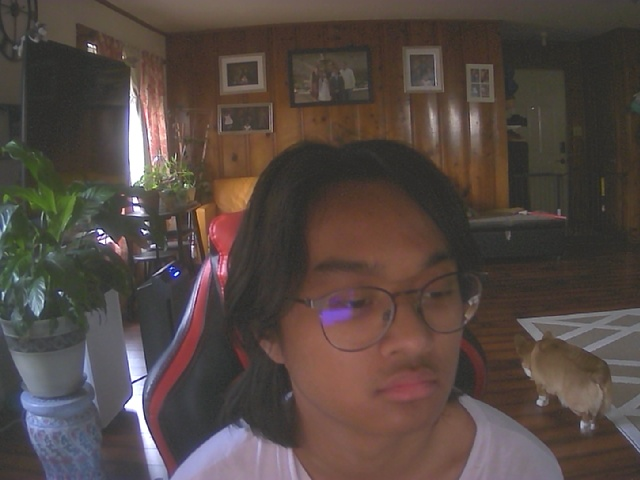neutral: (246, 146, 490, 439)
